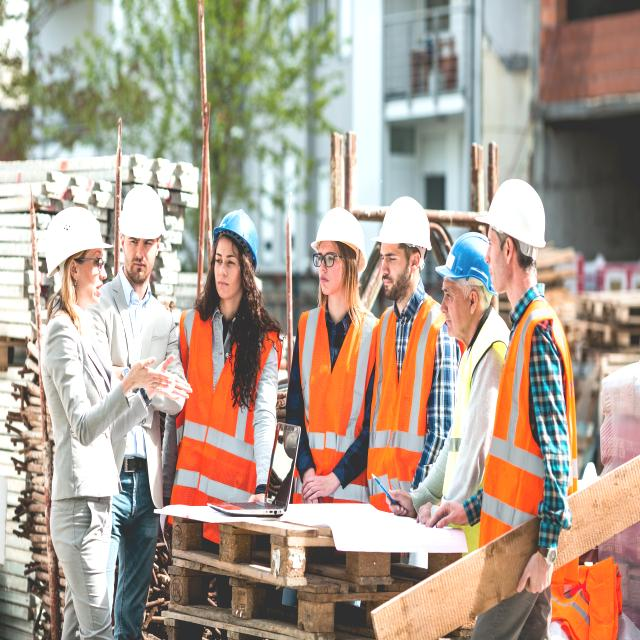face_nomask: (478, 226, 518, 290), (436, 276, 474, 340), (67, 245, 102, 311), (377, 243, 414, 302), (208, 236, 243, 298), (121, 235, 161, 284), (313, 238, 347, 292)
glasses: (311, 251, 338, 271), (91, 254, 107, 272)
hand_noglove: (156, 347, 196, 415), (123, 353, 173, 402), (512, 548, 554, 598), (385, 483, 414, 529), (309, 464, 339, 506), (432, 506, 464, 537)
head_helmet: (475, 178, 546, 249), (44, 206, 114, 278), (310, 207, 368, 271), (371, 196, 432, 250), (212, 208, 259, 268), (435, 232, 488, 284), (118, 183, 166, 240)
person: (484, 179, 580, 640), (104, 175, 183, 632), (34, 187, 112, 624), (179, 202, 275, 514), (284, 206, 369, 504), (370, 202, 442, 513), (440, 236, 492, 495)
vest: (479, 294, 578, 564), (175, 304, 262, 502), (305, 301, 377, 505), (373, 294, 440, 505), (451, 311, 512, 507)
